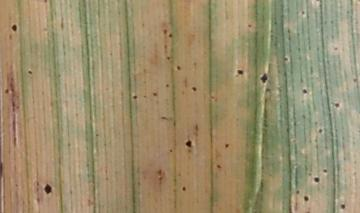tarspot: (40, 181, 57, 197), (257, 70, 272, 86), (182, 137, 196, 151), (9, 20, 20, 36), (127, 92, 141, 103), (24, 67, 36, 79), (280, 53, 292, 65), (299, 86, 312, 97), (301, 193, 312, 205), (189, 84, 201, 95), (221, 140, 233, 151), (235, 67, 247, 77), (321, 165, 331, 177), (339, 200, 348, 213), (174, 62, 183, 75), (150, 89, 161, 99), (312, 174, 321, 186), (316, 125, 325, 137), (331, 101, 343, 109), (166, 31, 175, 40), (181, 184, 188, 194)
